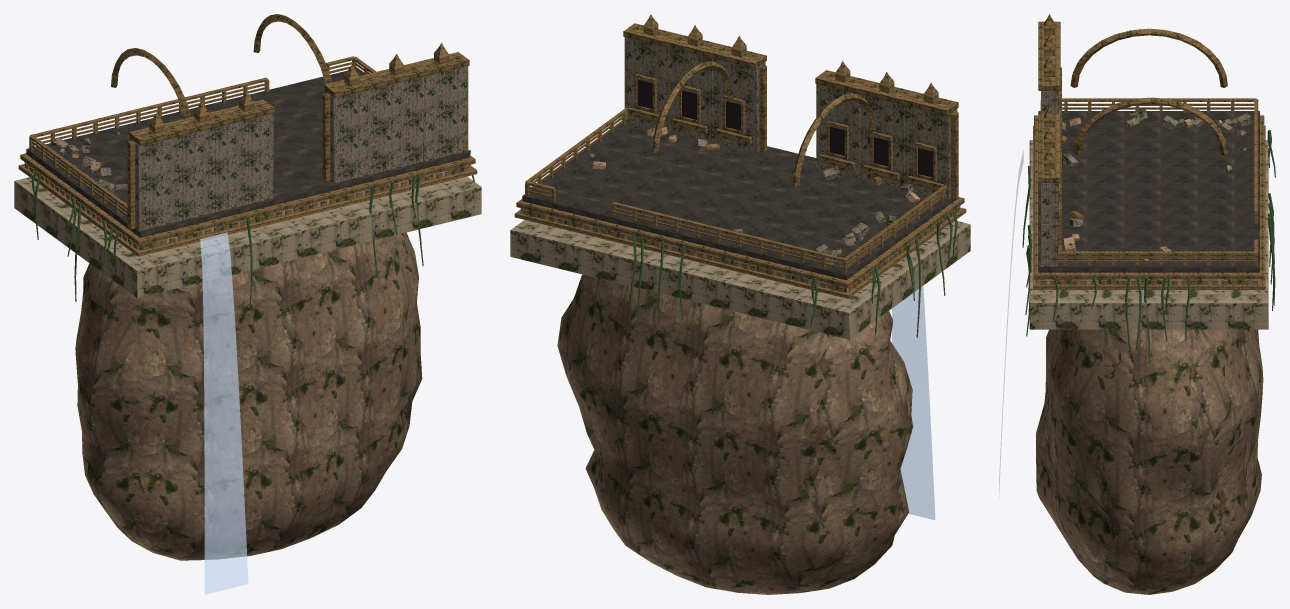
File: Room_GalleryW.fbx
3 views of the same model, side by side, from view 1: azimuth 30°, elevation 25°; view 2: azimuth 150°, elevation 25°; view 3: azimuth 270°, elevation 25° (orthographic). The views are drawn at different scales.
Parts seen in each view (by area): view 1: GalleryW_Rock_LOD0, GalleryW_Structure_LOD0, Waterfall_GalleryW, GalleryW_Vault; view 2: GalleryW_Structure_LOD0, GalleryW_Rock_LOD0, Waterfall_GalleryW, GalleryW_Vault; view 3: GalleryW_Structure_LOD0, GalleryW_Rock_LOD0, GalleryW_Vault, Waterfall_GalleryW.
Boxes of the visible parts, x1=… form: GalleryW_Rock_LOD0: x1=75, y1=232, x2=422, y2=560; GalleryW_Structure_LOD0: x1=14, y1=43, x2=481, y2=303; Waterfall_GalleryW: x1=200, y1=232, x2=248, y2=594; GalleryW_Vault: x1=111, y1=14, x2=331, y2=118; GalleryW_Structure_LOD0: x1=510, y1=14, x2=970, y2=339; GalleryW_Rock_LOD0: x1=557, y1=274, x2=913, y2=594; Waterfall_GalleryW: x1=892, y1=286, x2=935, y2=519; GalleryW_Vault: x1=652, y1=61, x2=875, y2=187; GalleryW_Structure_LOD0: x1=1022, y1=14, x2=1275, y2=365; GalleryW_Rock_LOD0: x1=1036, y1=329, x2=1263, y2=594; GalleryW_Vault: x1=1070, y1=28, x2=1227, y2=155; Waterfall_GalleryW: x1=999, y1=150, x2=1023, y2=497.
Size of what is drawn, in the model's own units: 32.56 by 44.33 by 22.49.
